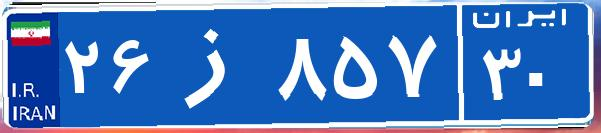0: (525, 38, 570, 115)
2: (57, 26, 110, 107)
3: (475, 38, 525, 113)
5: (330, 28, 385, 110)
6: (110, 28, 158, 105)
7: (385, 28, 445, 110)
8: (273, 28, 330, 110)
ز: (158, 15, 273, 115)
